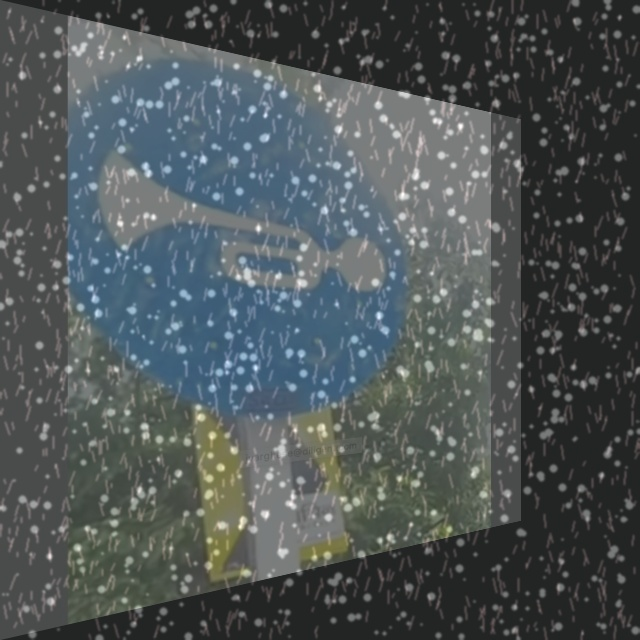Compulsory_Sound_Horn: (82, 75, 391, 365)
